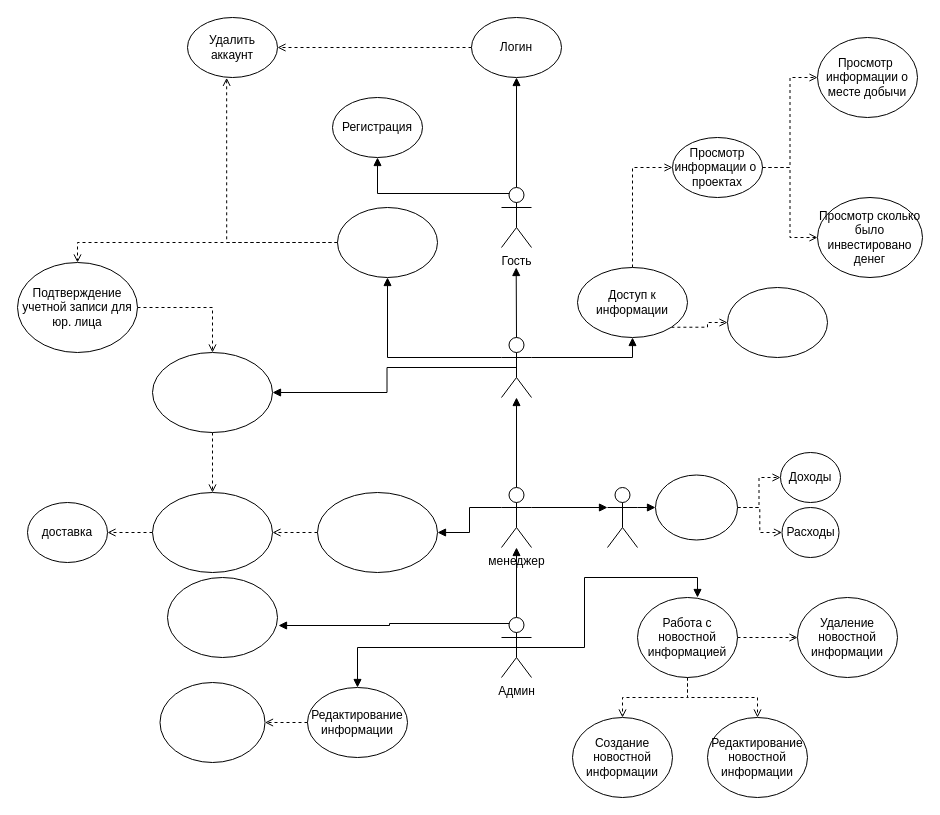
The diagram is 940 pixels wide and 815 high, and some of its shapes have lost their labels. Each missing label, with the centre of its shape:
"Аутифицированный" goes at (x=516, y=367).
"Бухгалтер" goes at (x=622, y=517).
"О проектах" goes at (x=212, y=722).
"оформление заказа" goes at (x=212, y=392).
"Подтверждение заказа" goes at (x=212, y=532).
"Просмотр сотрудников" goes at (x=777, y=322).
"Редактирование заказа" goes at (x=377, y=532).
"Редактирование пользователей" goes at (x=222, y=617).
"Редактирование профиля" goes at (x=387, y=242).
"Учёт капитала" goes at (x=696, y=507).
